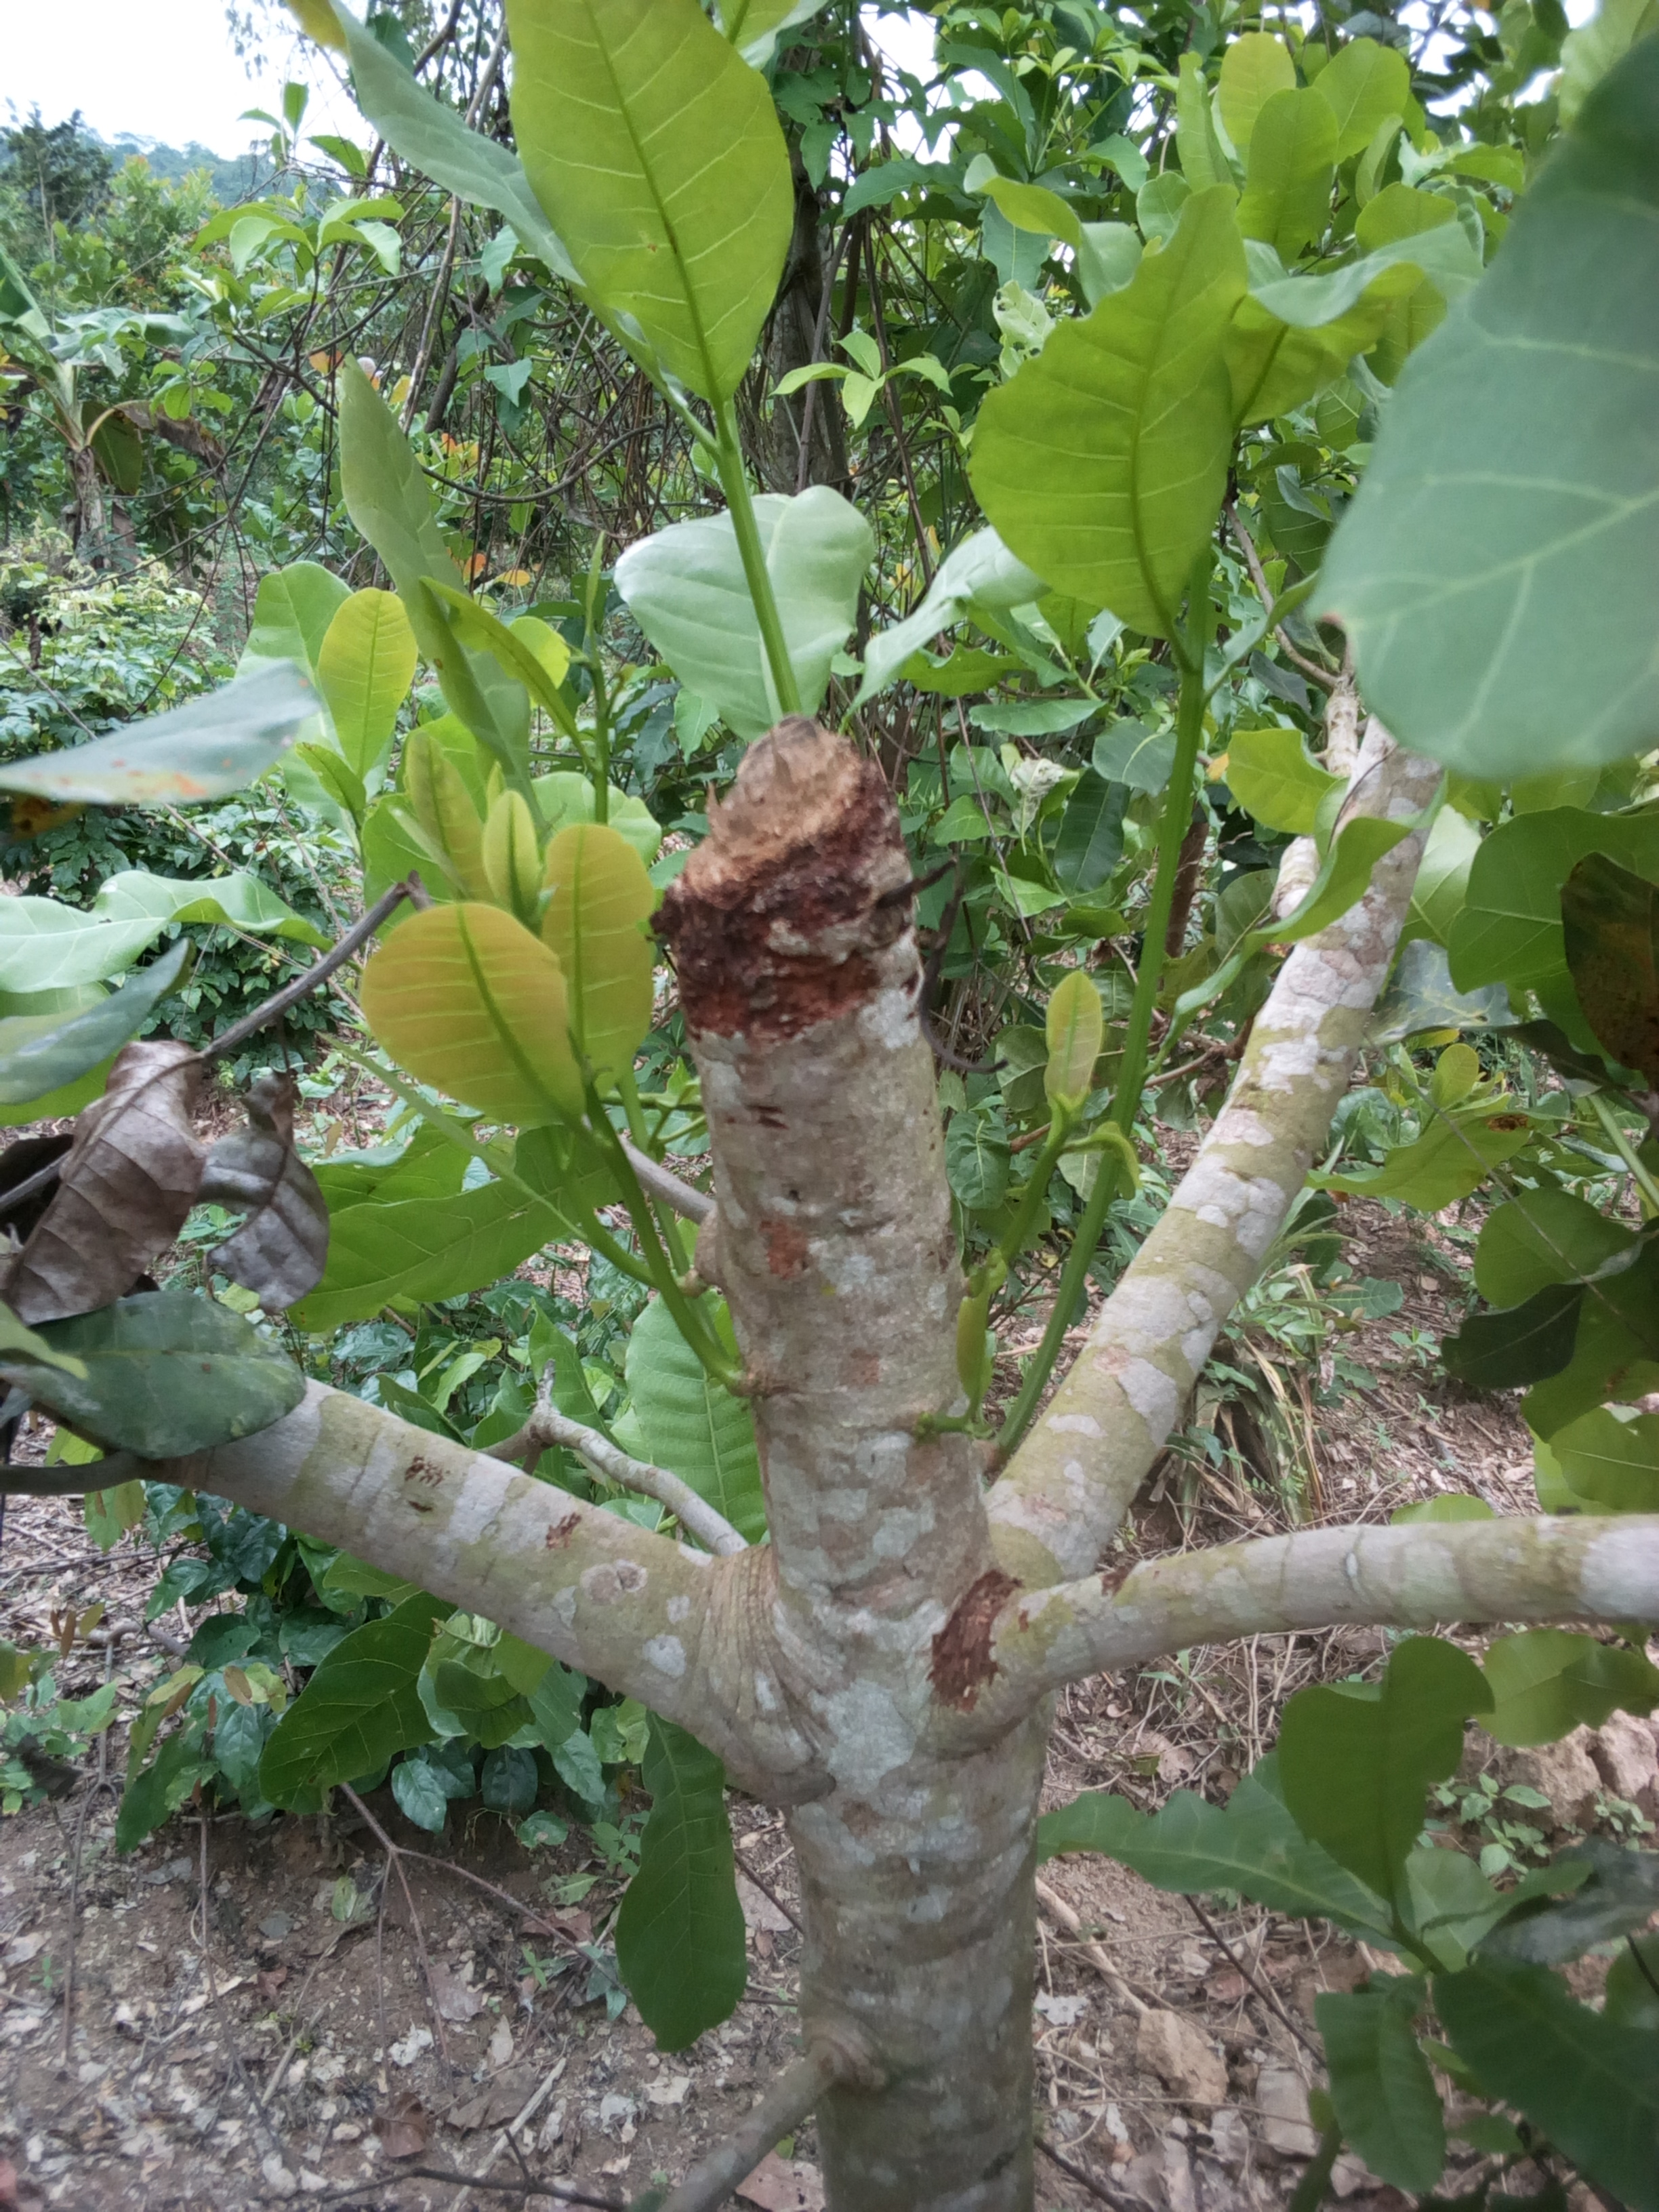Analepse trifasciata: (558, 712, 958, 1069)
